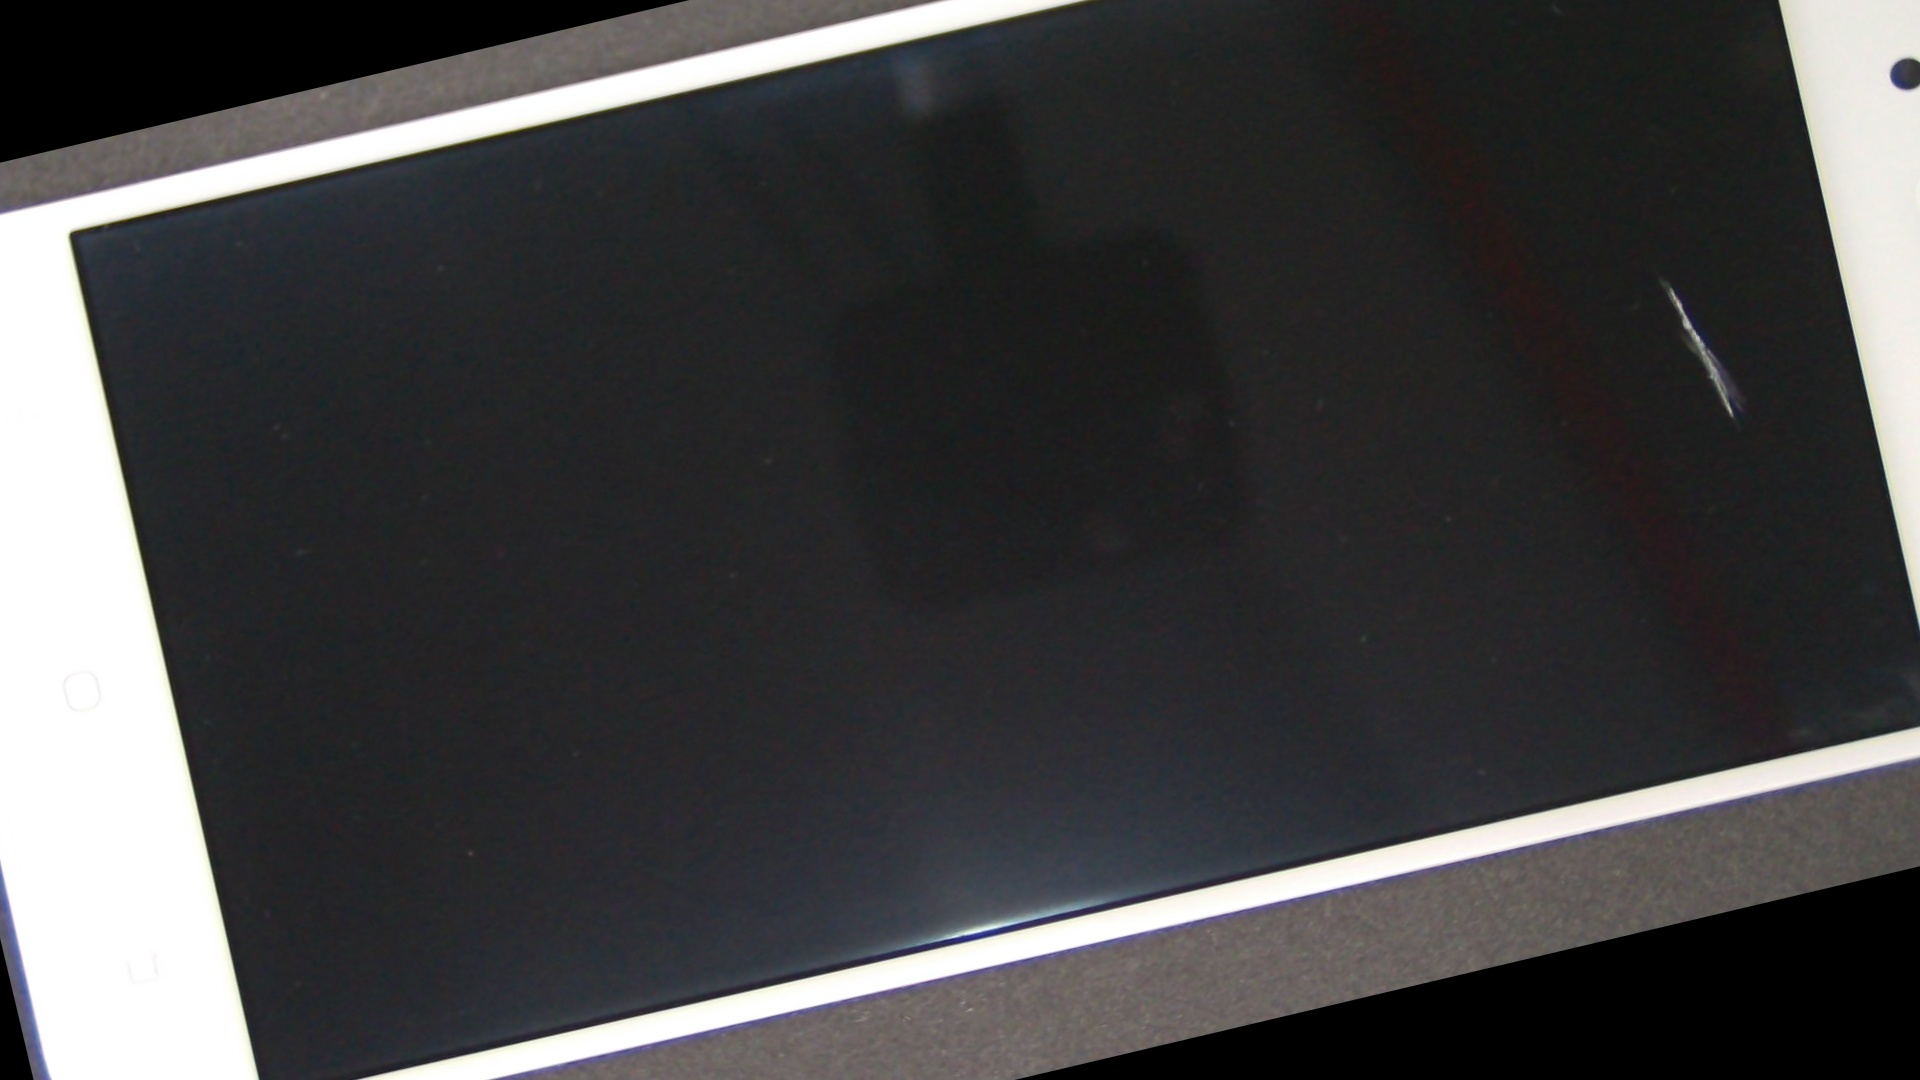oil: (744, 0, 1920, 729)
